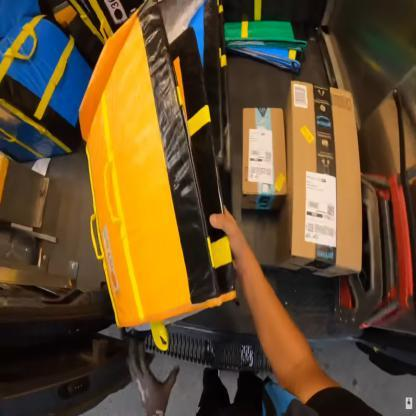package: (284, 79, 362, 281), (240, 108, 289, 217)
